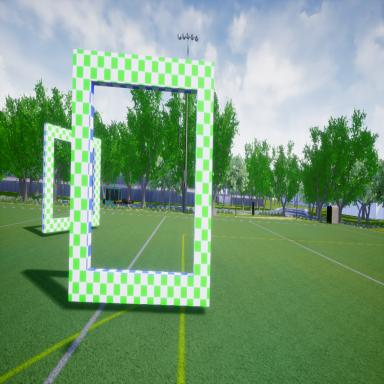gate: (70, 38, 213, 315), (42, 116, 102, 234)
